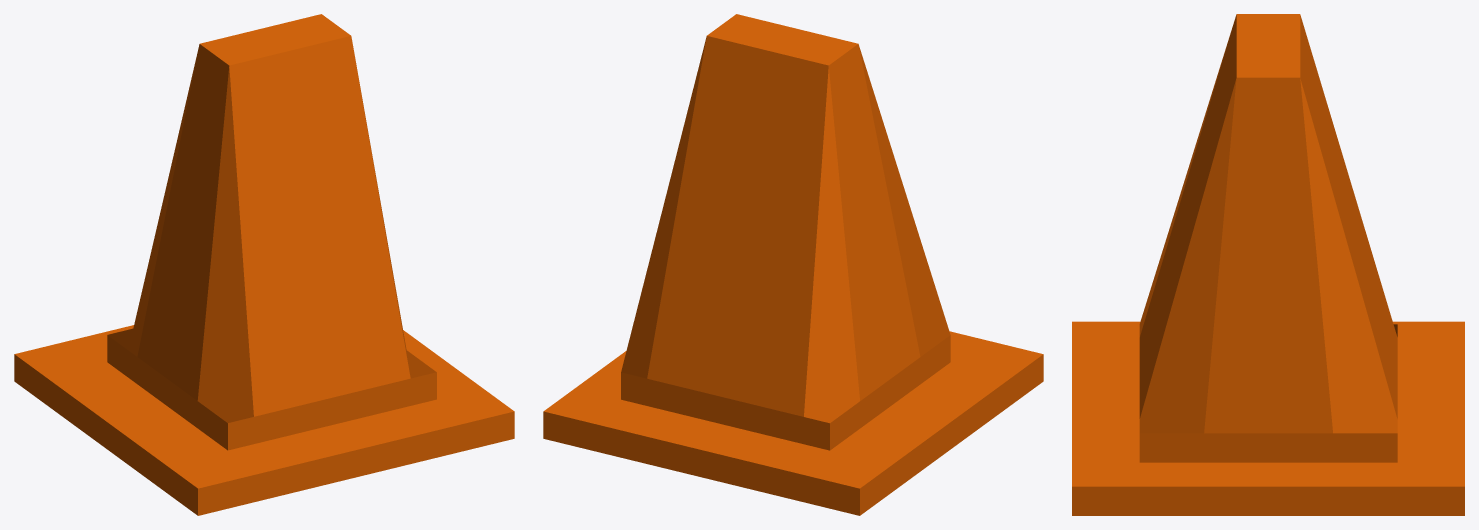
3 renders of one model, left to right at view 1: azimuth 30°, elevation 25°; view 2: azimuth 150°, elevation 25°; view 3: azimuth 270°, elevation 25°, orthographic. The views are drawn at different scales.
Visible parts, largest first — view 1: Cube; view 2: Cube; view 3: Cube.
Part boxes in pixels (x1,y1,x2,y2): Cube: (14, 14, 514, 515); Cube: (543, 14, 1043, 515); Cube: (1072, 14, 1464, 515).
Bounding box in the file's own units: 3.03 × 3.36 × 3.05.
